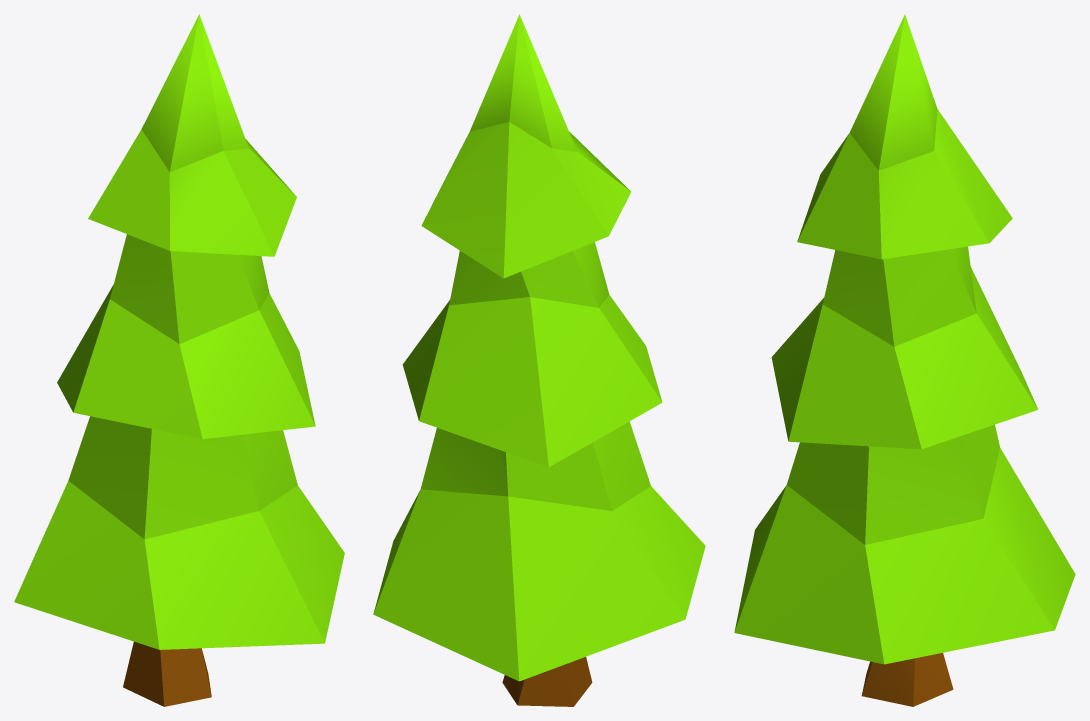
File: Tree10.dae
3 views of the same model, side by side, from view 1: azimuth 30°, elevation 25°; view 2: azimuth 150°, elevation 25°; view 3: azimuth 270°, elevation 25° (orthographic). The views are drawn at different scales.
Parts seen in each view (by area): view 1: Tree10; view 2: Tree10; view 3: Tree10.
Part boxes in pixels (box(x1,y1,x2,y2)): Tree10: box(14, 14, 344, 706); Tree10: box(373, 14, 705, 706); Tree10: box(734, 14, 1075, 706).
Size of the model in its own units: 5.9 by 12.09 by 5.44.
